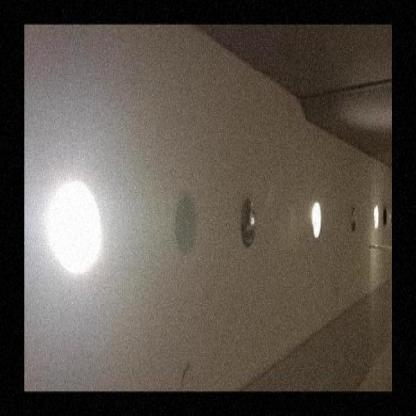light_off: (219, 185, 269, 262), (340, 192, 360, 247)
